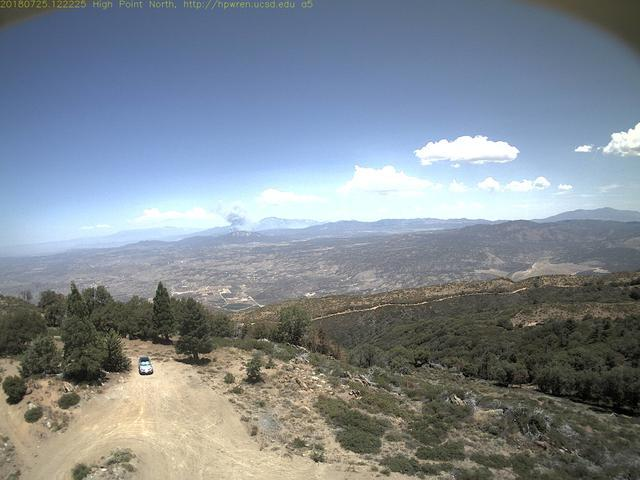smoke: (217, 204, 312, 241)
